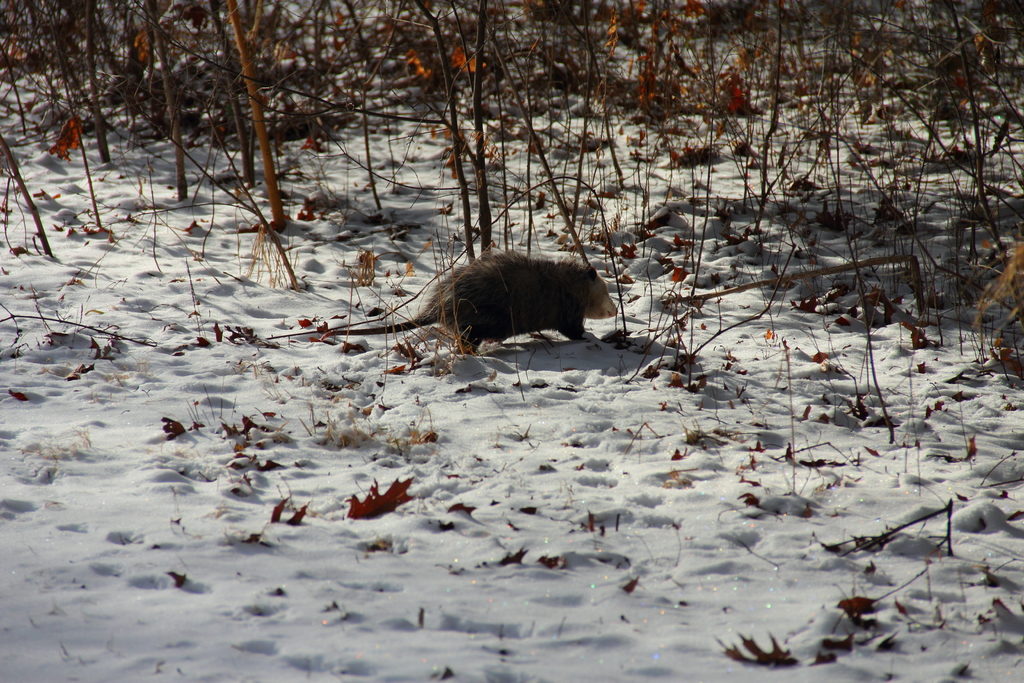Animal: (321, 244, 620, 355)
